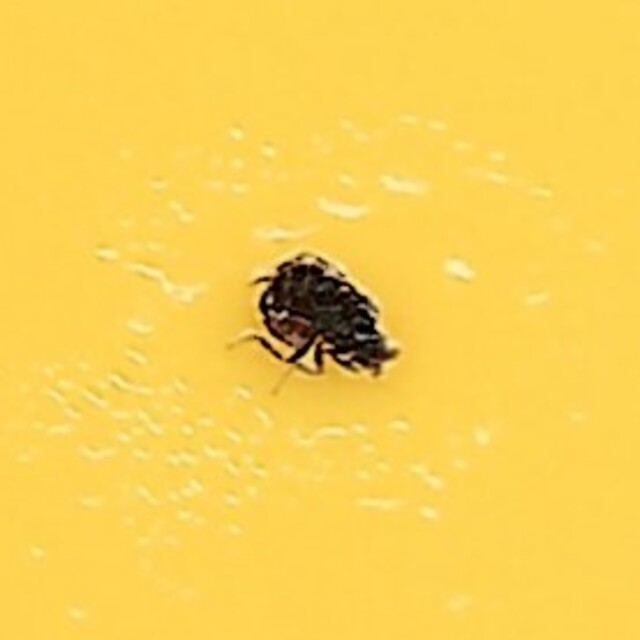Brachycera: (231, 241, 409, 399)
